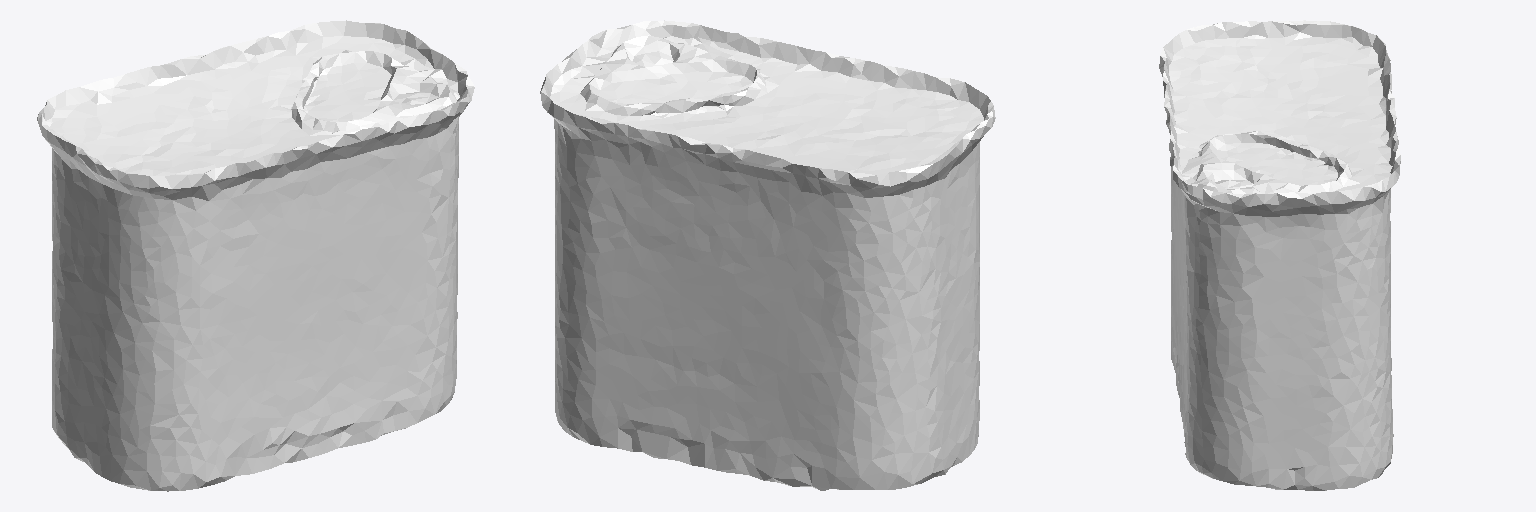
The robot description file, URDF, robot "Tomato_soup_can":
<?xml version="1.0" ?>
<robot name="Tomato_soup_can">
  <link name="Link">

    <inertial>
      <origin rpy="0 0 0" xyz="-0.032840 -0.026353 0.037831"/>
       <mass value="0.45"/>

       <inertia ixx="0.00000024980" ixy="-0.00000000986" ixz="-0.00000000055"
                iyy="0.00000042818" iyz="0.00000000111"
                izz="0.00000032282"/>
    </inertial>
    <visual>
      <origin rpy="0 0 0" xyz="0 0 0"/>
      <geometry>
            <mesh filename="textured2.obj" scale="1 1 1"/>
      </geometry>
        <material name="framemat0">
        <color rgba="1 1 1 1"/>
      </material>
    </visual>

    <collision>
      <geometry>
	 	 <mesh filename="textured2.obj" scale="1 1 1"/>
      </geometry>
    </collision>
  </link>
</robot>

--- Render facts (derived) ---
3 views of the same robot in one strip: view 1: azimuth 30°, elevation 25°; view 2: azimuth 150°, elevation 25°; view 3: azimuth 270°, elevation 25° (orthographic).
Model Tomato_soup_can with 1 links and 0 joints (none), rooted at Link, posed all joints at 0.
Links seen in each view (by area): view 1: Link; view 2: Link; view 3: Link.
Link boxes in pixels (x1,y1,x2,y2): Link: (37, 20, 474, 491); Link: (540, 20, 995, 490); Link: (1159, 20, 1400, 490).
Size in the robot's own frame: 0.1021 by 0.0597 by 0.0837 metres.
1 mesh visuals loaded from 1 distinct referenced files (1 OBJ).